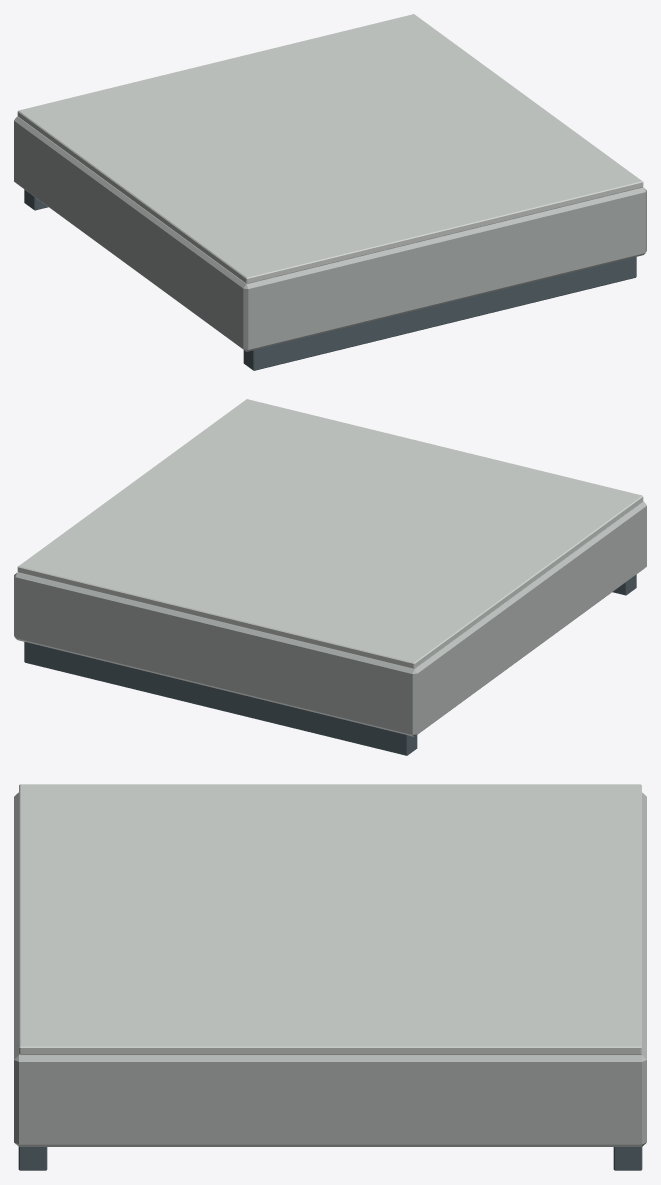
Rendered from concrete-roof.glb.
The picture shows the model from 3 angles, top to bottom: view 1: azimuth 30°, elevation 25°; view 2: azimuth 150°, elevation 25°; view 3: azimuth 270°, elevation 25°; orthographic projection. The views are drawn at different scales.
Visible parts, largest first — view 1: Concrete roof finish.001, Roof slab.001, Roof support beam.002; view 2: Concrete roof finish.001, Roof slab.001, Roof support beam.002; view 3: Concrete roof finish.001, Roof slab.001, Roof support beam.002.
Boxes of the visible parts, left/top/right/bottom form: Concrete roof finish.001: left=17, top=14, right=643, bottom=283; Roof slab.001: left=14, top=116, right=646, bottom=351; Roof support beam.002: left=24, top=189, right=636, bottom=370; Concrete roof finish.001: left=17, top=399, right=643, bottom=668; Roof slab.001: left=14, top=501, right=646, bottom=736; Roof support beam.002: left=24, top=574, right=636, bottom=755; Concrete roof finish.001: left=19, top=784, right=641, bottom=1054; Roof slab.001: left=14, top=792, right=646, bottom=1146; Roof support beam.002: left=18, top=1147, right=642, bottom=1170.
Size of the model in its own units: 1 by 0.2245 by 1.
